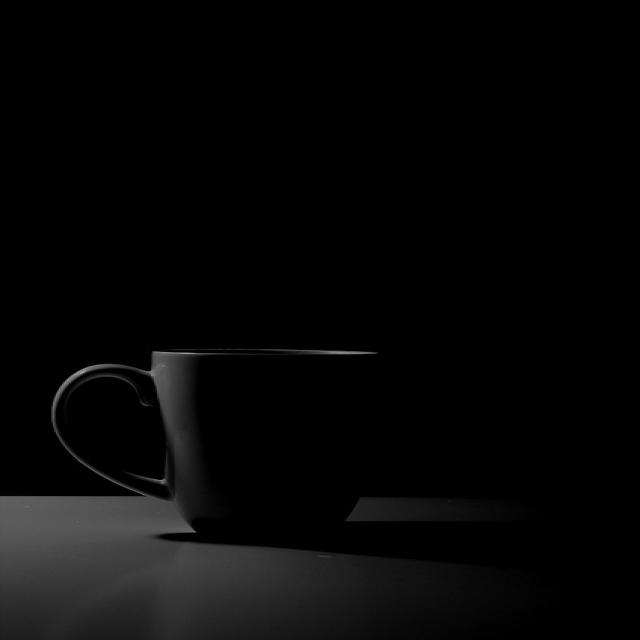Cup: (51, 318, 483, 553)
